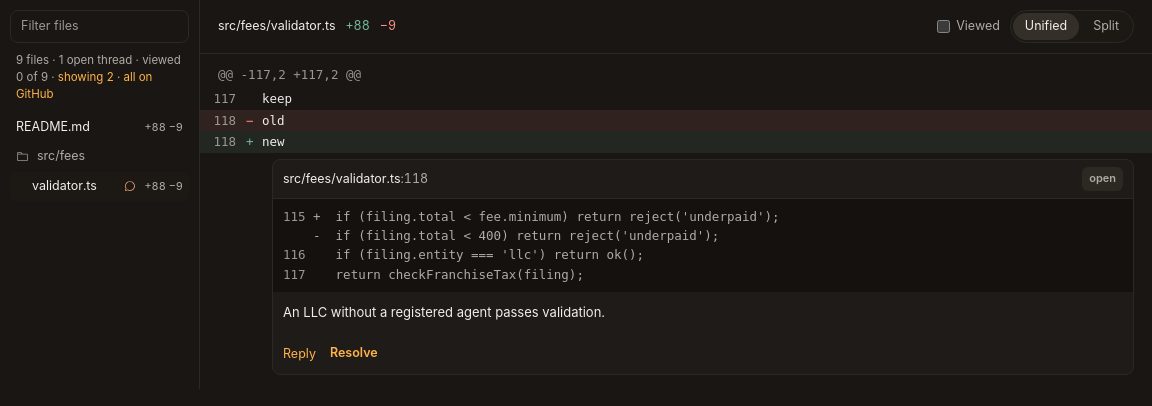
Test case: PrFiles › says "No file matches." when the filter matches nothing (#24)
Step 1. Type "zzzz" into the field labelled "Filter files" → (100, 26), box [10, 10, 189, 43]
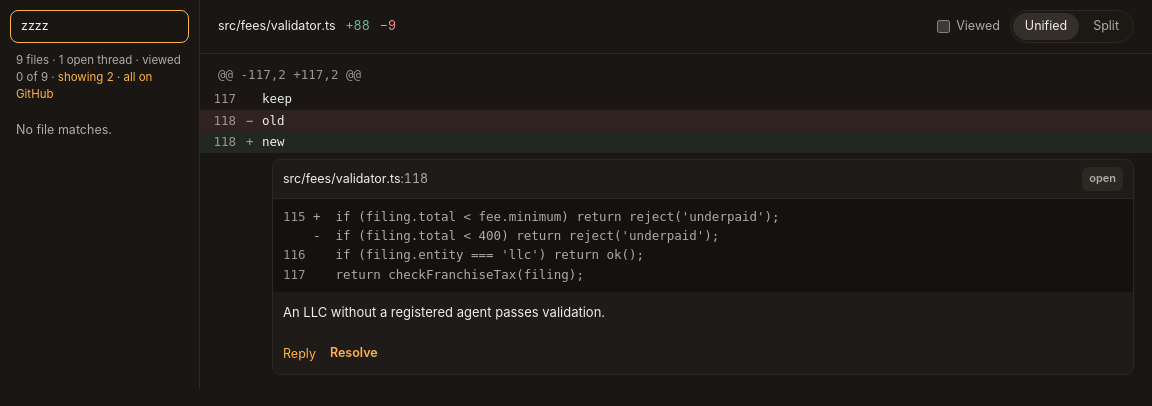
Expected: the text "No file matches." is shown, [16, 122, 112, 136]
